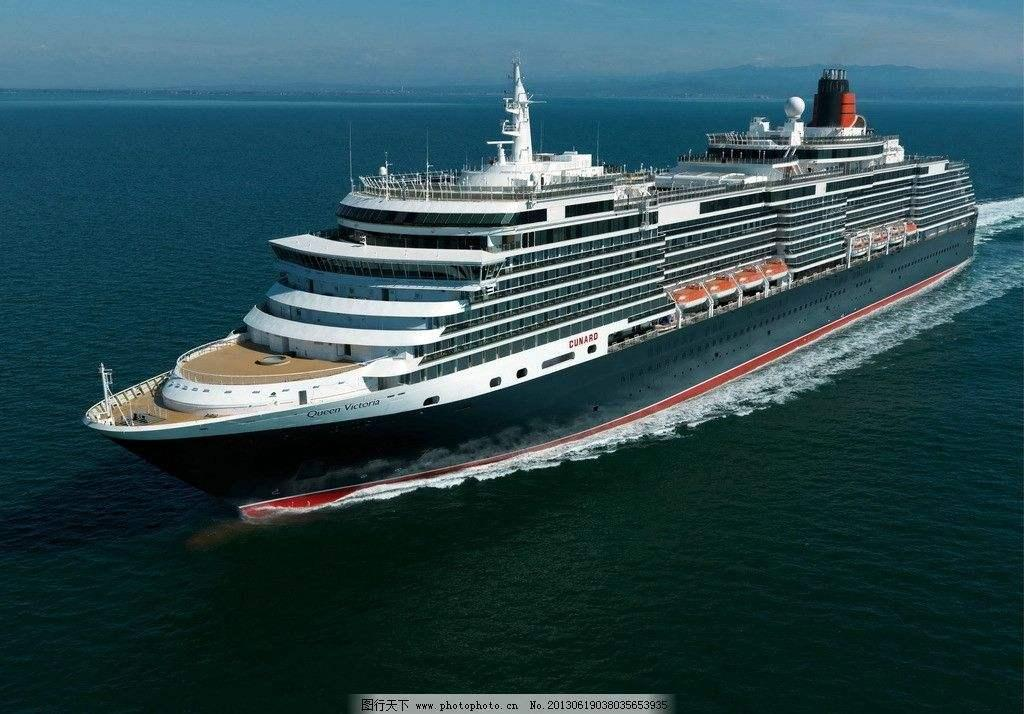youlun: (79, 57, 980, 523)
